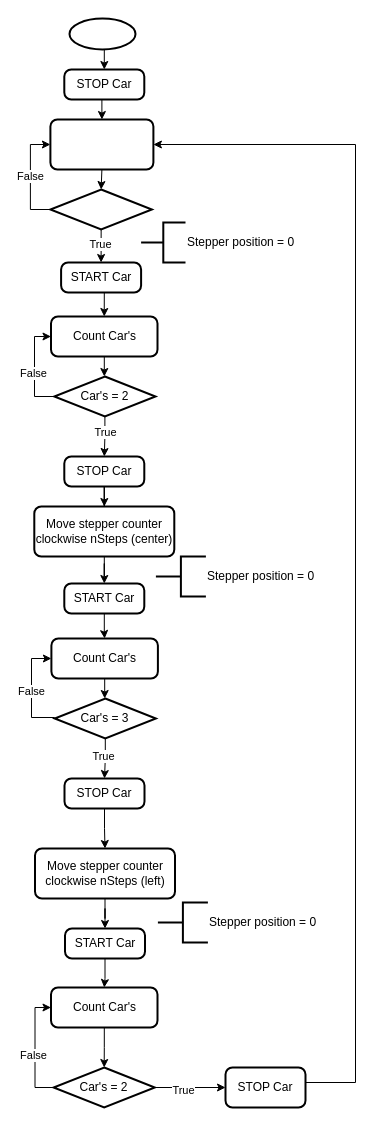
Image size: 382x1125. Some labels were removed from this diagram. The shapes that lost their labels are listed below. From the top down, each one's centre as x and y in pixels, then its label:
At [102,33]: "Power ON".
At [101,144]: "Move stepper clockwise".
At [100,209]: "Sensor = LOW".
